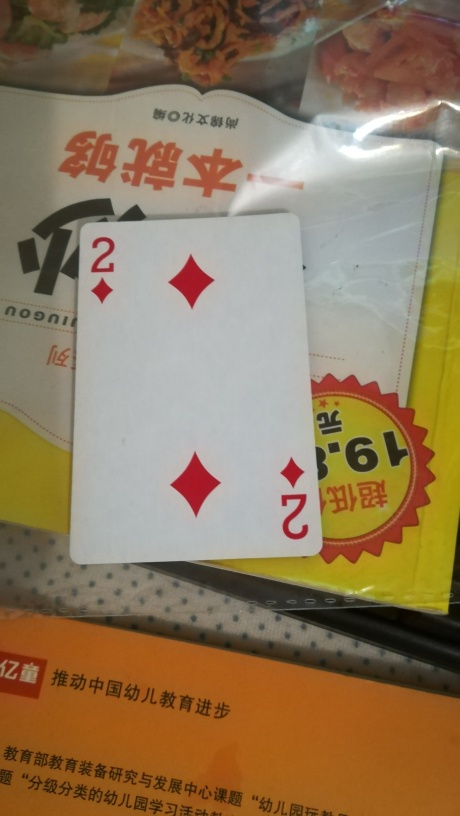fk 2: (70, 212, 324, 561)
